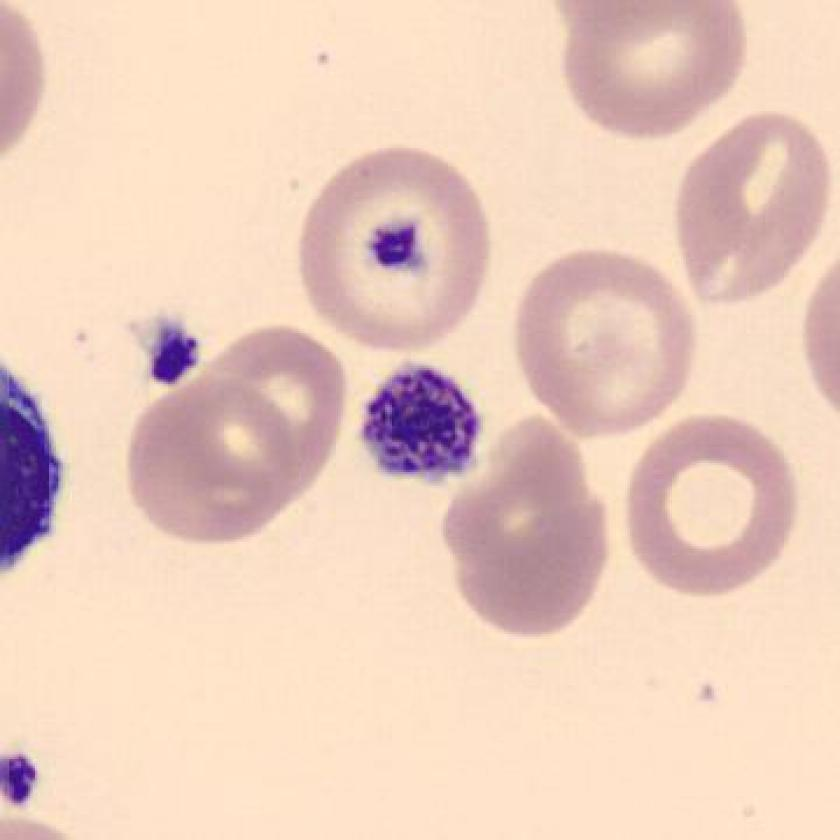platelets: (349, 355, 491, 501)
